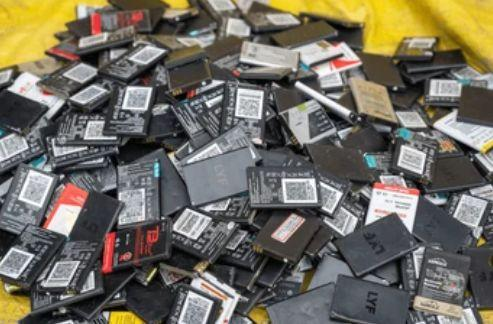battery: (334, 212, 420, 278), (182, 146, 259, 209), (58, 186, 124, 254), (291, 155, 356, 220), (303, 252, 395, 297), (0, 165, 60, 234), (1, 225, 64, 290), (329, 274, 410, 324), (251, 209, 324, 264), (415, 247, 472, 314), (409, 197, 477, 253), (170, 208, 237, 263), (105, 220, 173, 273), (247, 164, 322, 211), (39, 240, 104, 294), (306, 142, 382, 187), (264, 282, 343, 324), (115, 157, 161, 228), (150, 147, 193, 220), (278, 96, 338, 148), (223, 80, 270, 146), (122, 268, 178, 322), (101, 42, 170, 83), (103, 84, 155, 136), (160, 247, 225, 286), (52, 111, 120, 148), (162, 283, 223, 324), (186, 81, 229, 138), (427, 154, 486, 195), (54, 28, 133, 58), (389, 135, 436, 184), (0, 90, 50, 136), (107, 0, 174, 32), (355, 52, 406, 93), (240, 1, 302, 34), (47, 143, 116, 172), (293, 73, 345, 110), (271, 20, 336, 49), (239, 41, 298, 72), (337, 124, 390, 157), (166, 58, 212, 96), (96, 264, 142, 302), (456, 84, 493, 129), (197, 34, 247, 66), (116, 139, 173, 167), (399, 61, 461, 86), (65, 167, 115, 196), (318, 21, 365, 51), (271, 84, 309, 120), (146, 105, 181, 142), (425, 130, 466, 161), (415, 49, 465, 73), (266, 146, 314, 171), (394, 36, 439, 61), (254, 259, 290, 290), (163, 45, 208, 69), (17, 56, 66, 78), (45, 38, 88, 63), (69, 84, 110, 109), (180, 12, 219, 36), (207, 62, 245, 86), (150, 33, 195, 52), (388, 87, 423, 111), (64, 16, 97, 39)
